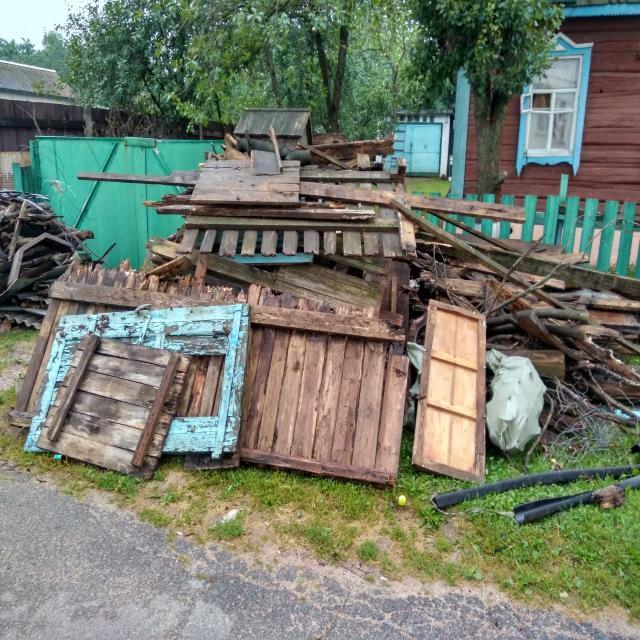entulho: (35, 306, 248, 460), (240, 315, 418, 492), (489, 268, 640, 437), (46, 330, 187, 470), (177, 231, 391, 320), (404, 283, 489, 486), (247, 270, 408, 340), (0, 196, 84, 322), (416, 220, 509, 298), (482, 355, 553, 455), (8, 307, 59, 420), (231, 106, 324, 160), (386, 193, 520, 225), (181, 214, 371, 236), (304, 133, 400, 174), (473, 346, 586, 378), (140, 251, 194, 281)
restos de madeira: (486, 260, 581, 318)
